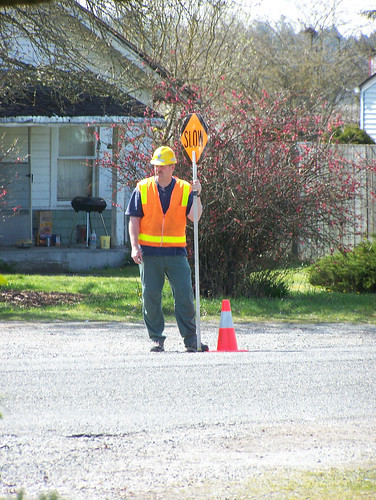person hardhat: (117, 115, 216, 354)
